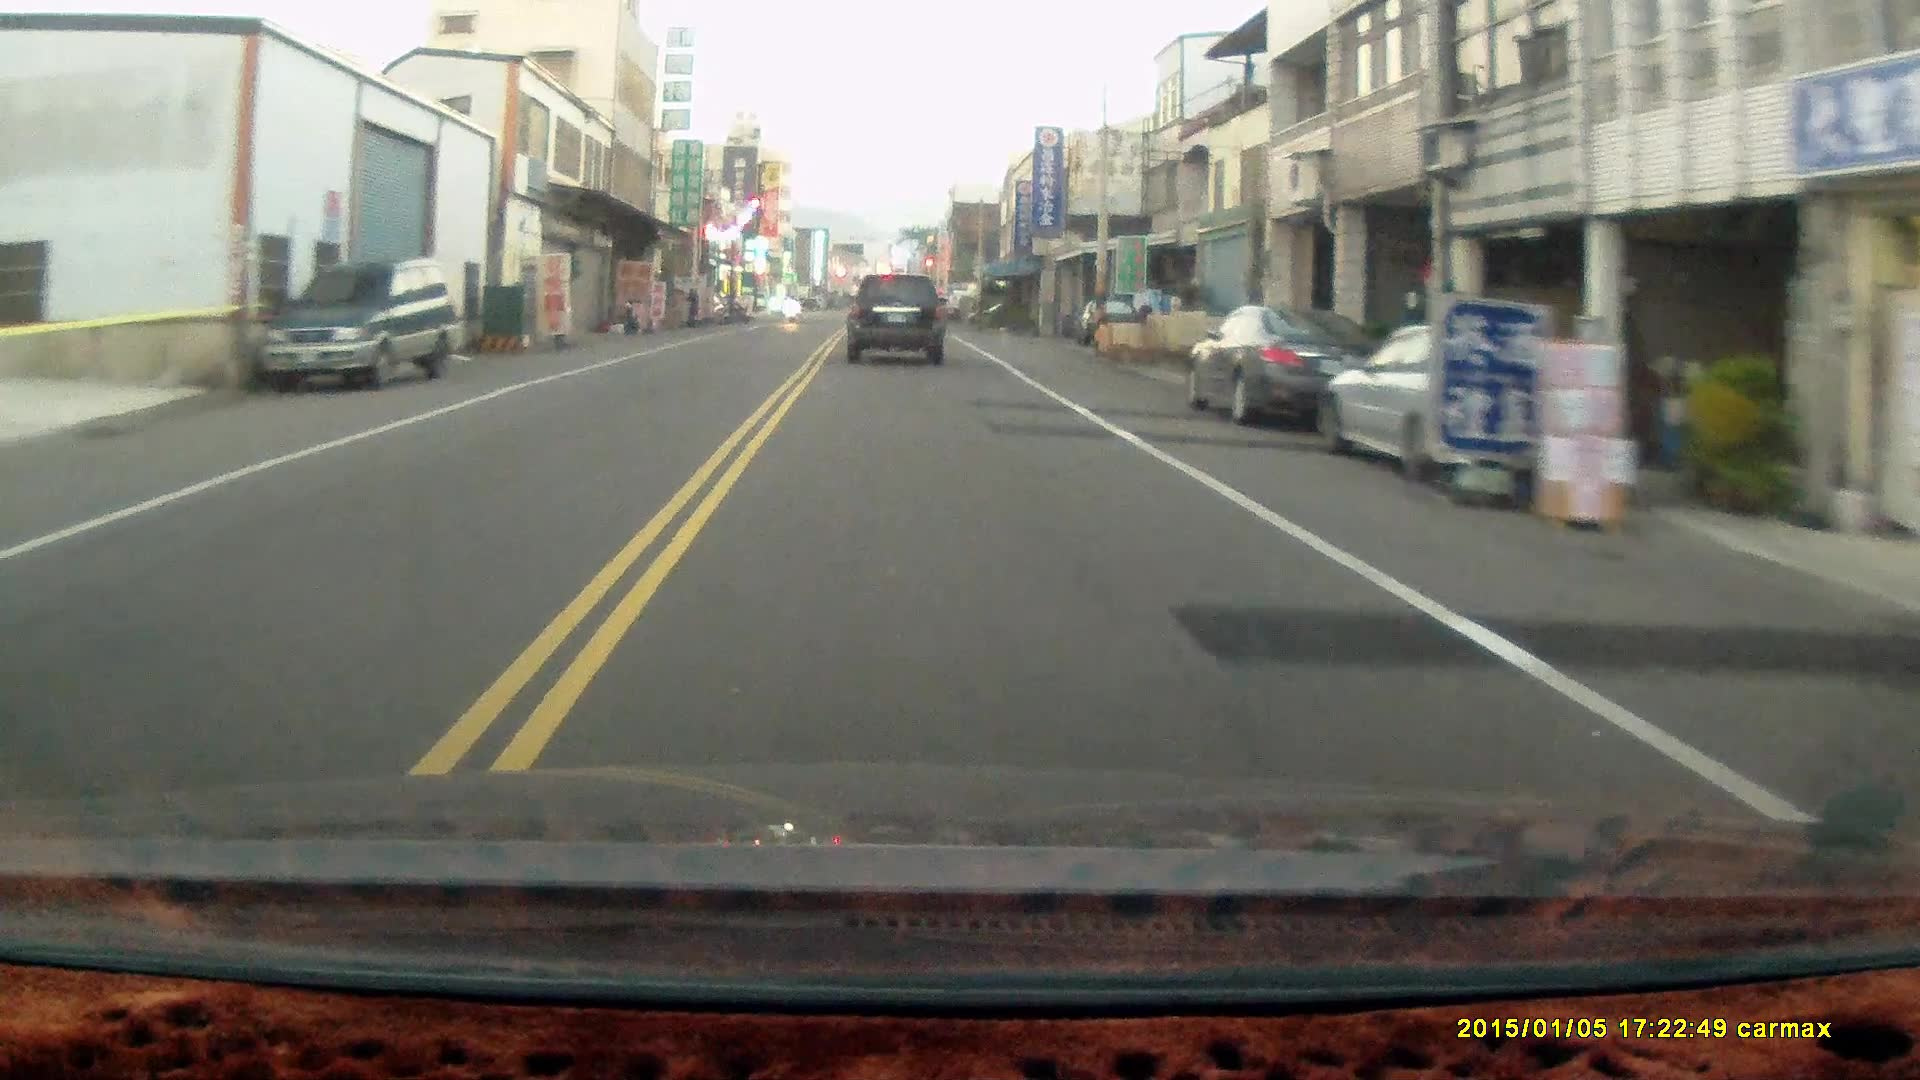pedestrian: (679, 285, 699, 330)
vehicle: (1320, 325, 1631, 494), (254, 254, 461, 395), (1182, 306, 1394, 430), (846, 273, 948, 368)
